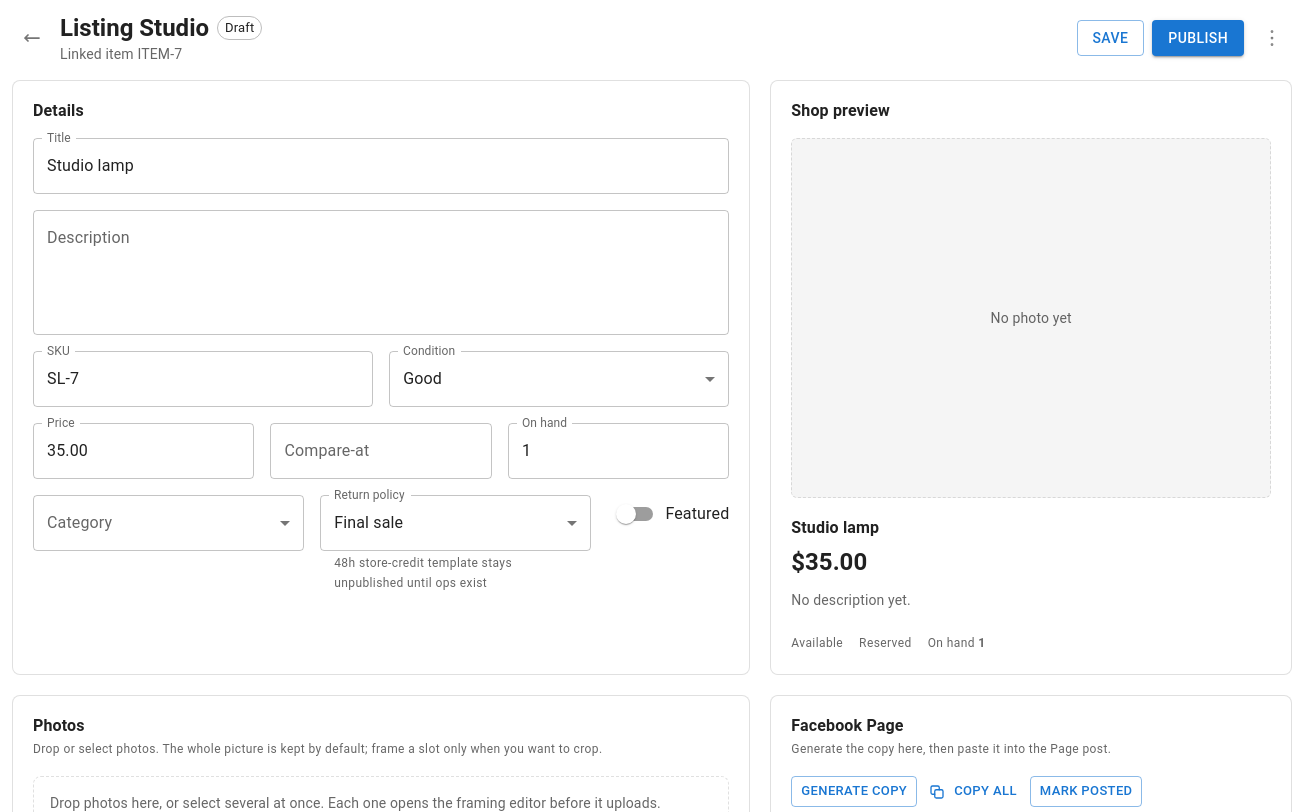
Test: ListingStudioPage › keeps Delete and Mark sold out of reach until the overflow is opened
Expected: the menu item "Delete" is not shown
Click the button named "More actions". click: (1272, 38)
box: x1=1252 y1=18 x2=1292 y2=58
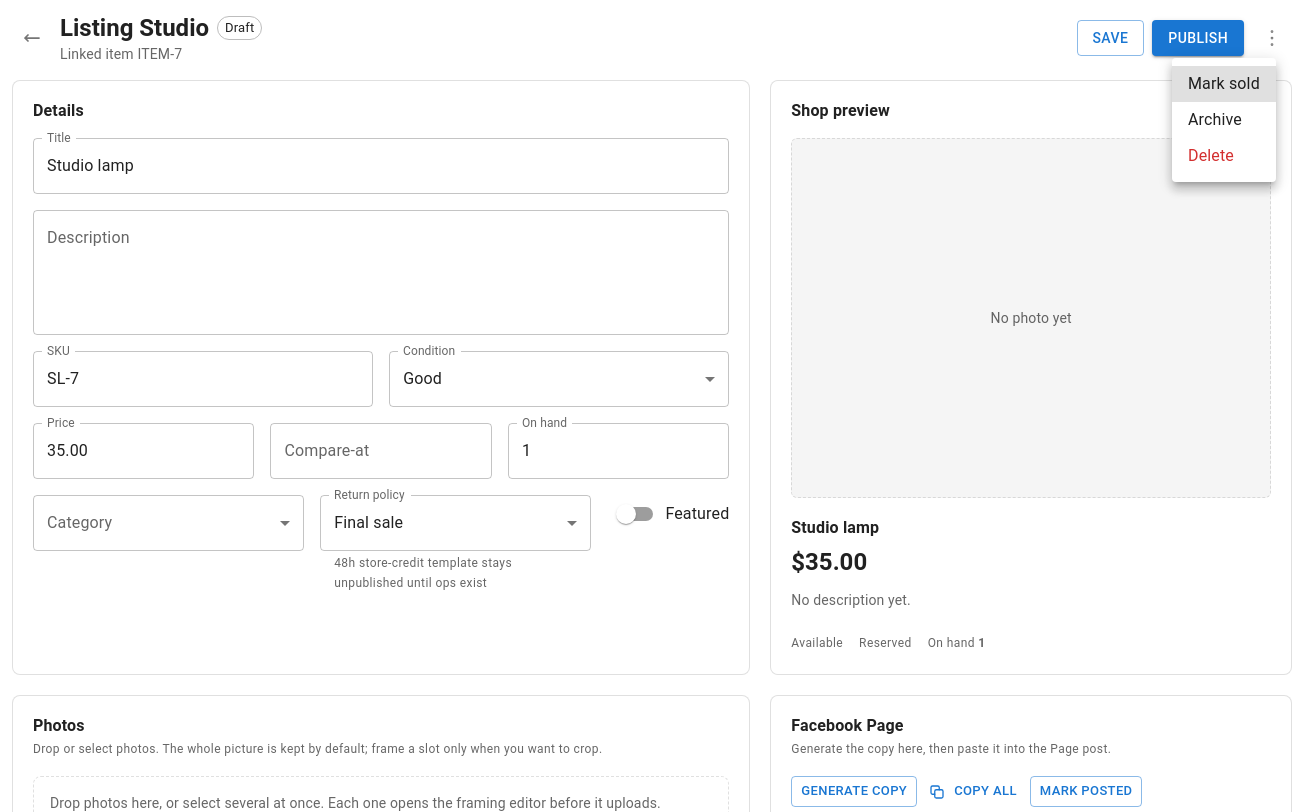
Now the menu item "Delete" is shown, box x1=1188 y1=146 x2=1234 y2=165
Now the menu item "Mark sold" is shown, box x1=1172 y1=66 x2=1276 y2=102
Now the menu item "Archive" is shown, box x1=1188 y1=110 x2=1242 y2=129
